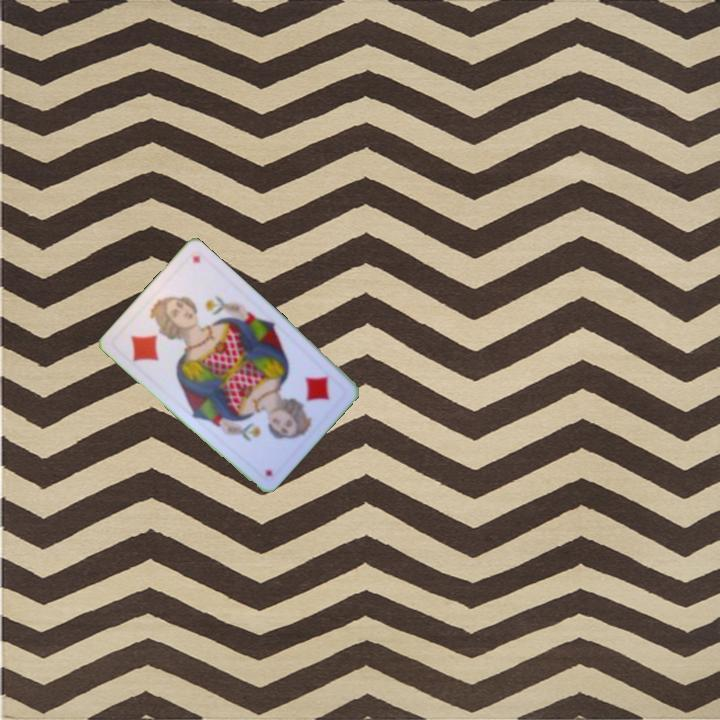d_q.png: (265, 352, 350, 438), (110, 295, 195, 381)
